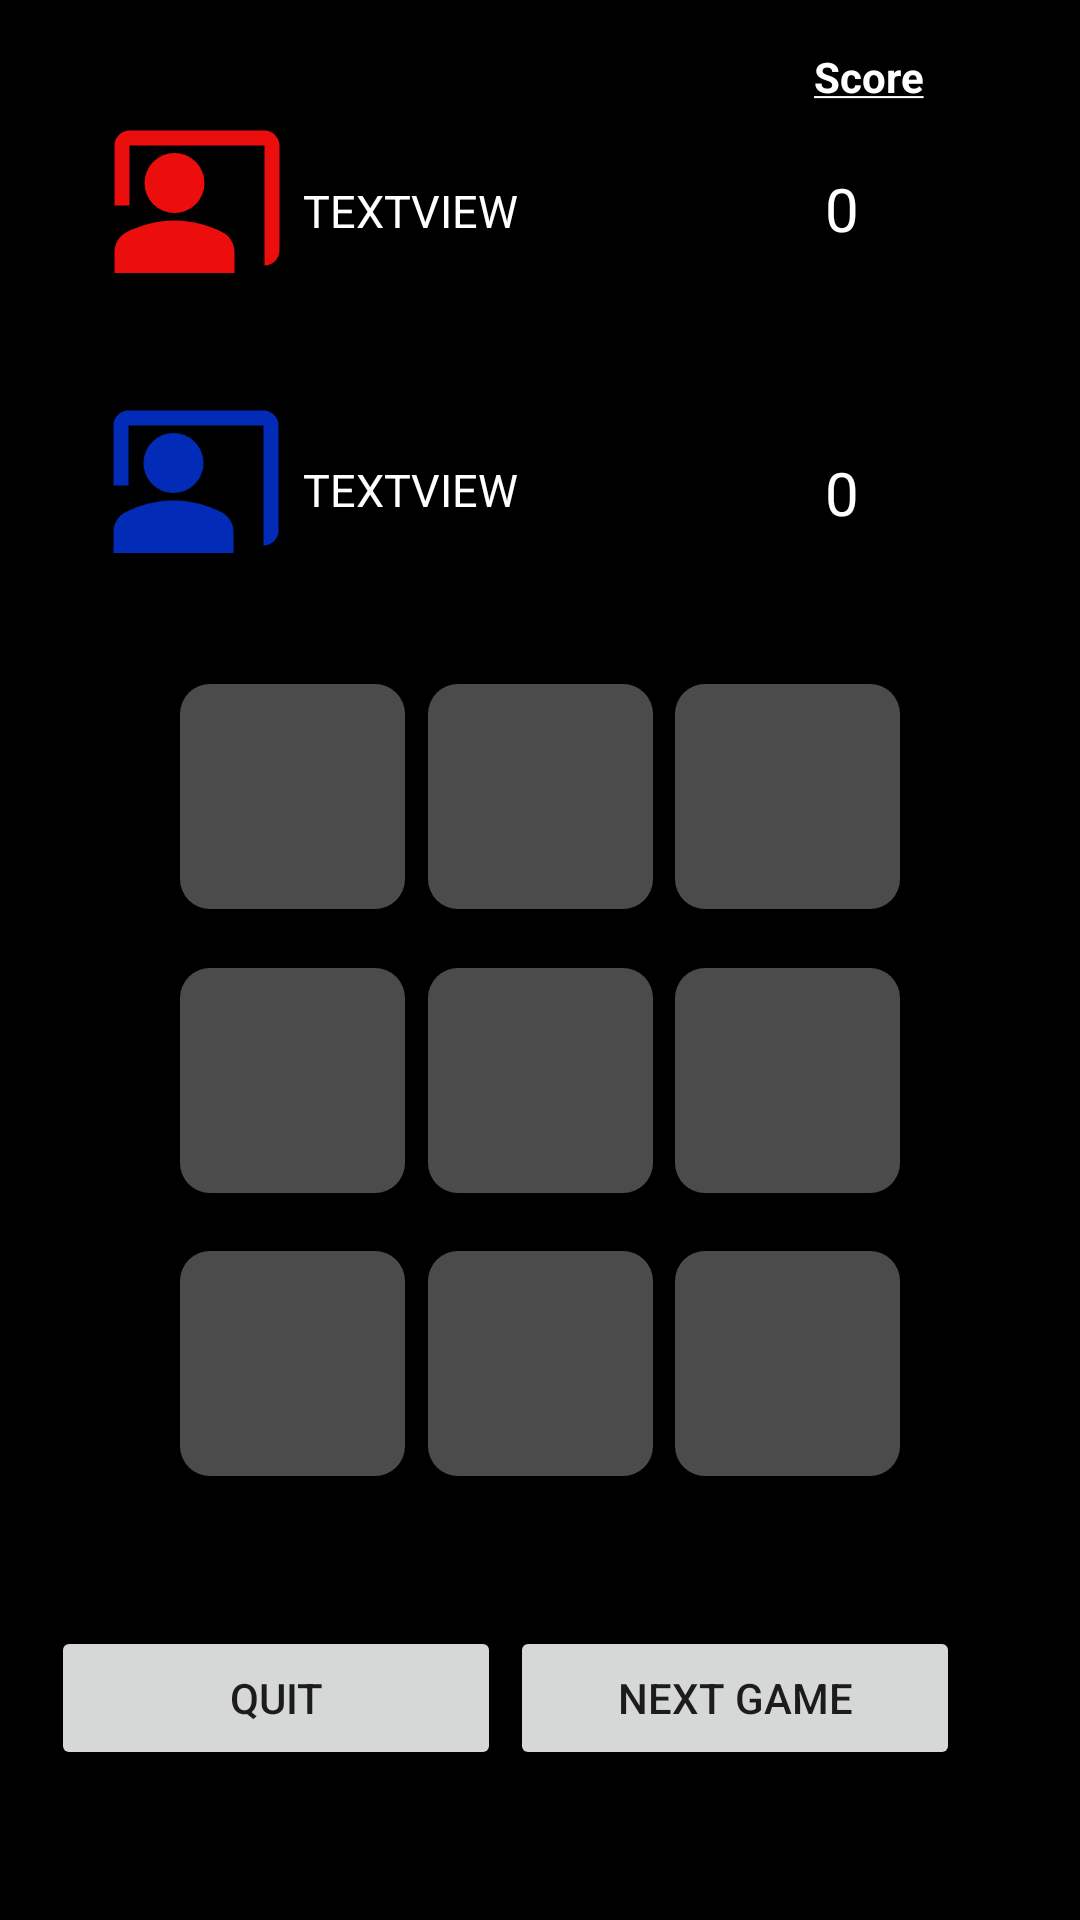

Icon bounding boxes for this 1080*1920 phone screenshot, format (x1, y1, x2, y2):
player: (114, 130, 280, 273), (113, 410, 279, 553)
